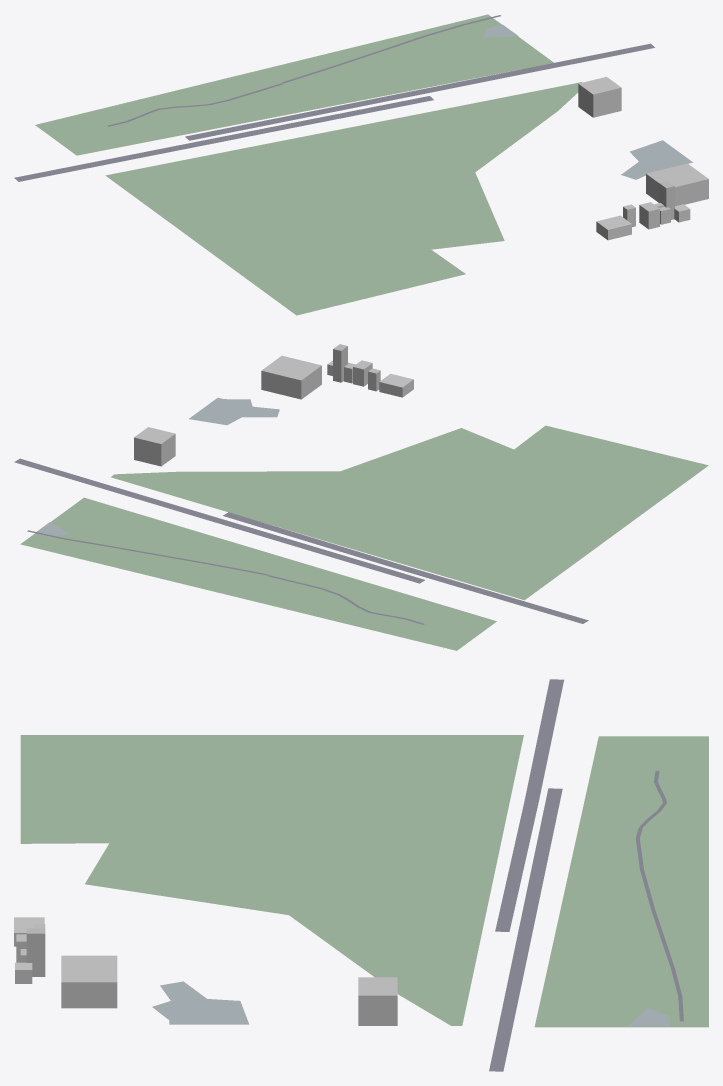
File: 131_81_mid.glb
3 views of the same model, one above another, from view 1: azimuth 30°, elevation 25°; view 2: azimuth 150°, elevation 25°; view 3: azimuth 270°, elevation 25° (orthographic). The views are drawn at different scales.
Size of the model in its own units: 678 by 38.41 by 505.
